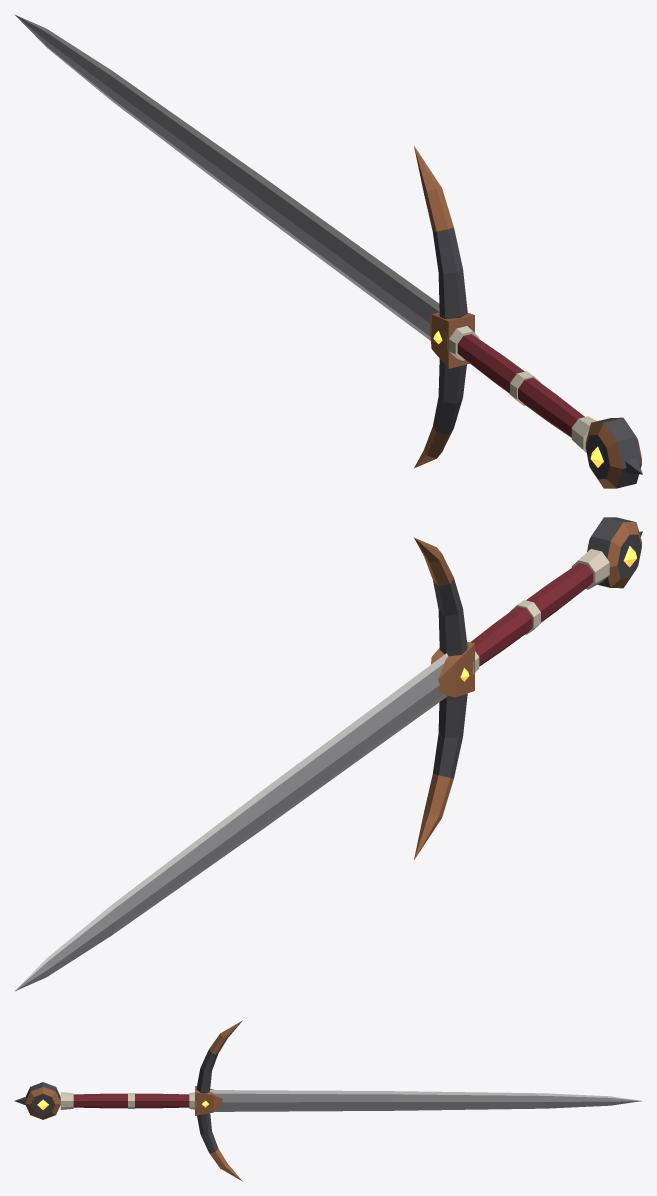
File: held-bastard-sword.glb
The picture shows the model from 3 angles, top to bottom: view 1: azimuth 30°, elevation 25°; view 2: azimuth 150°, elevation 25°; view 3: azimuth 270°, elevation 25°; orthographic projection. The views are drawn at different scales.
Visible parts, largest first — view 1: blade, crossguard, grip, pommel, guard_langet; view 2: blade, crossguard, grip, pommel, guard_langet, ferrule_lower; view 3: blade, grip, crossguard, pommel, guard_langet.
Boxes of the visible parts, box(x1,y1,x2,y2) form: blade: box(14, 14, 439, 340); crossguard: box(414, 146, 467, 468); grip: box(457, 334, 584, 437); pommel: box(585, 417, 641, 488); guard_langet: box(429, 312, 474, 368); blade: box(14, 653, 448, 991); crossguard: box(414, 537, 467, 859); grip: box(470, 563, 593, 666); pommel: box(587, 517, 641, 588); guard_langet: box(431, 641, 474, 697); ferrule_lower: box(571, 549, 609, 589); blade: box(210, 1090, 641, 1111); grip: box(73, 1093, 189, 1108); crossguard: box(196, 1020, 242, 1181); pommel: box(25, 1082, 60, 1119); guard_langet: box(195, 1086, 222, 1115).
Size of what is drawn, in the model's own units: 0.062 by 0.41 by 1.45.
